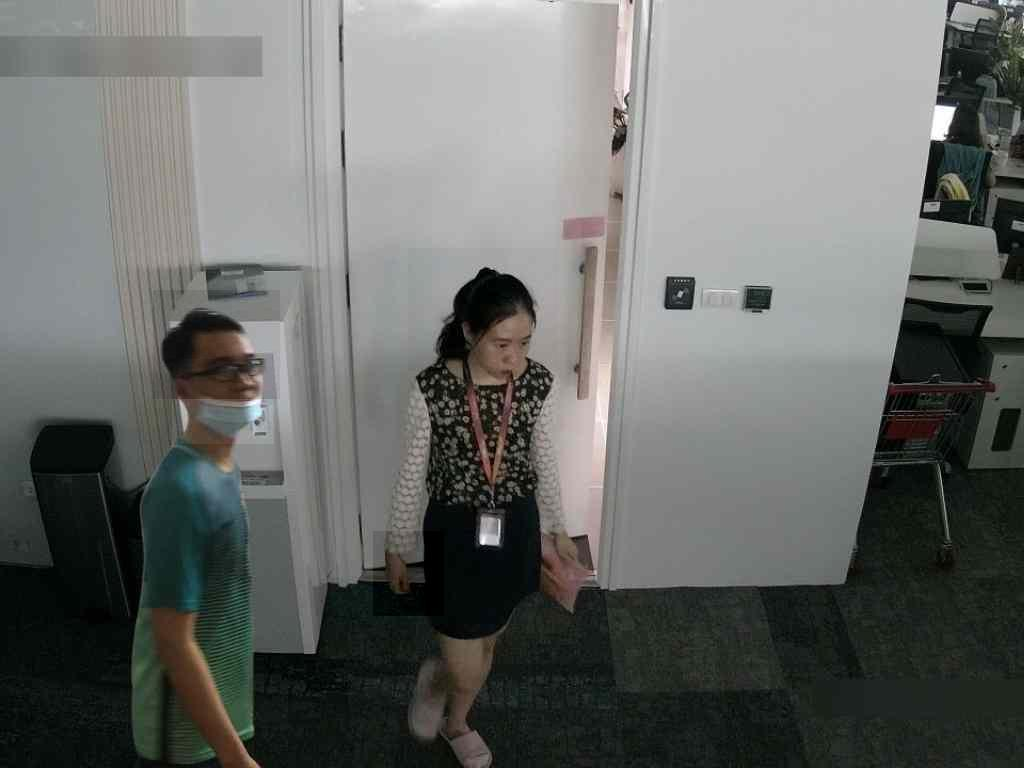no_apron: (373, 531, 444, 616)
no_gloves: (408, 248, 557, 372), (154, 290, 280, 400)
no_hairnet: (172, 369, 274, 444), (462, 297, 541, 378)
